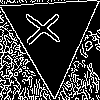X: (26, 10, 68, 46)
